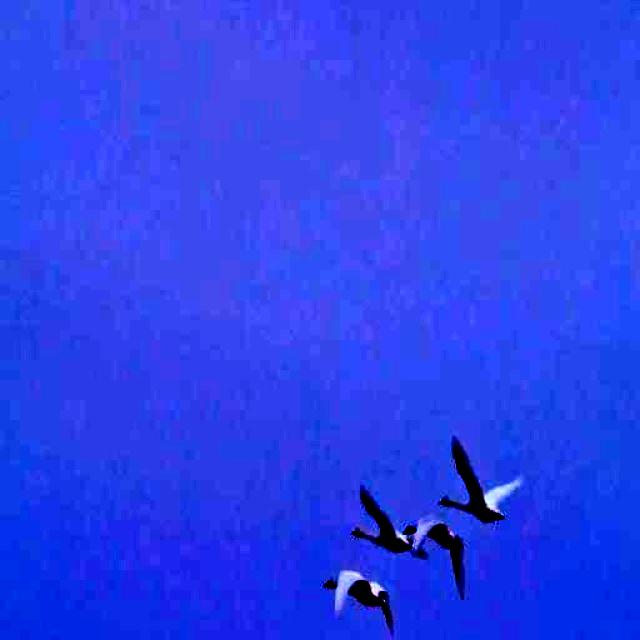airplane: (432, 431, 522, 531), (410, 508, 479, 609), (345, 479, 422, 560), (318, 568, 400, 635)
